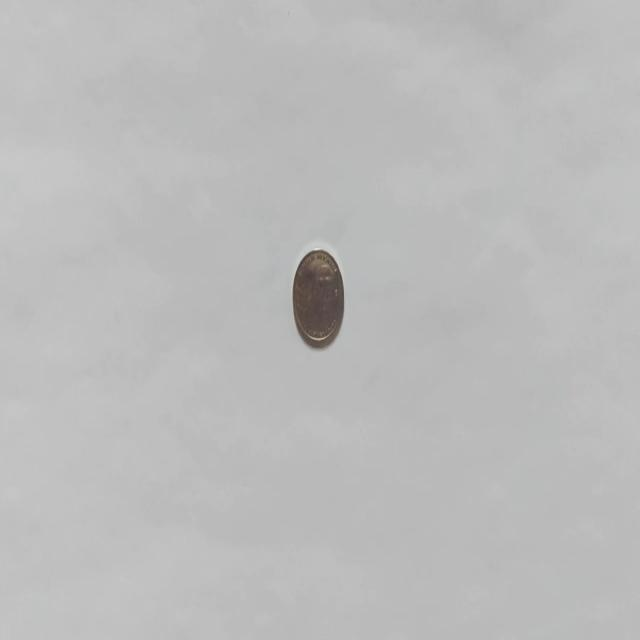seribu rupiah koin: (291, 244, 345, 348)
